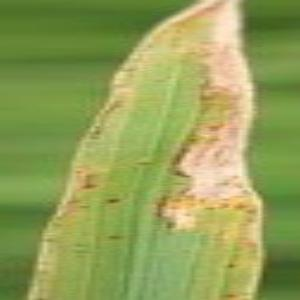Bacterial_Blight: (68, 1, 254, 299)
